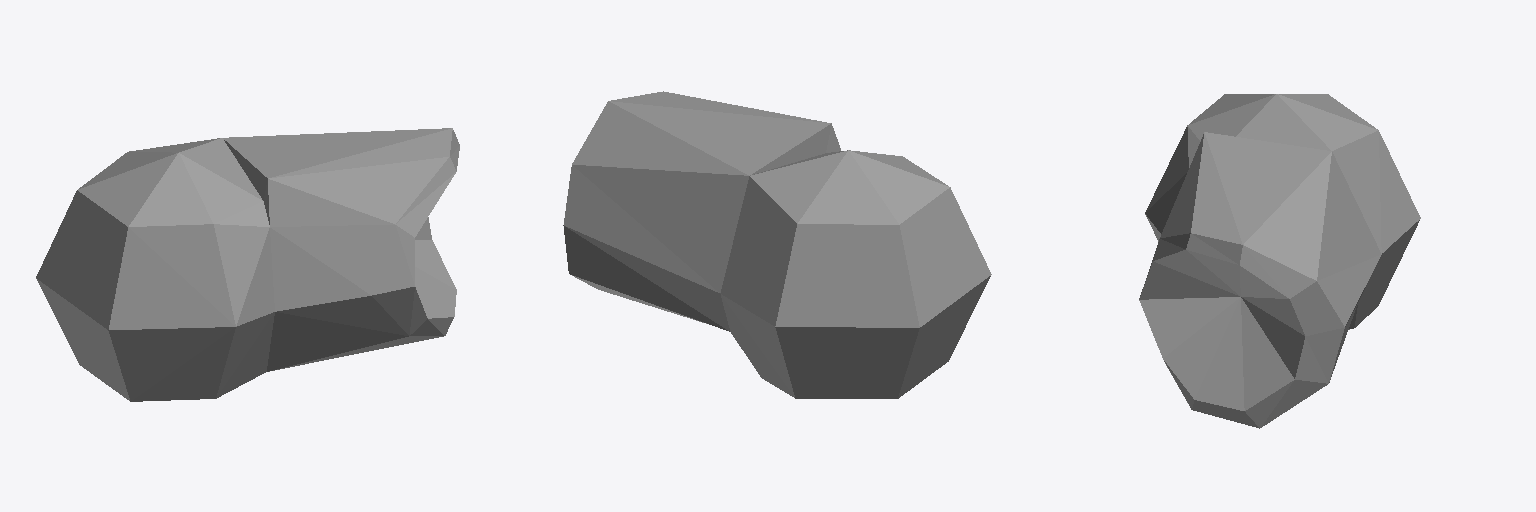
Rendered from buzzlightyLeftArm.obj.
The picture shows the model from 3 angles: view 1: azimuth 30°, elevation 25°; view 2: azimuth 150°, elevation 25°; view 3: azimuth 270°, elevation 25°; orthographic projection.
Visible parts, largest first — view 1: buzzlightyLeftArm_buzzlighty.012; view 2: buzzlightyLeftArm_buzzlighty.012; view 3: buzzlightyLeftArm_buzzlighty.012.
Boxes of the visible parts, x1,y1,x2,y2 form: buzzlightyLeftArm_buzzlighty.012: [36, 128, 459, 401]; buzzlightyLeftArm_buzzlighty.012: [563, 91, 991, 398]; buzzlightyLeftArm_buzzlighty.012: [1139, 94, 1420, 428].
Bounding box in the file's own units: 0.1718 × 0.1093 × 0.1128.